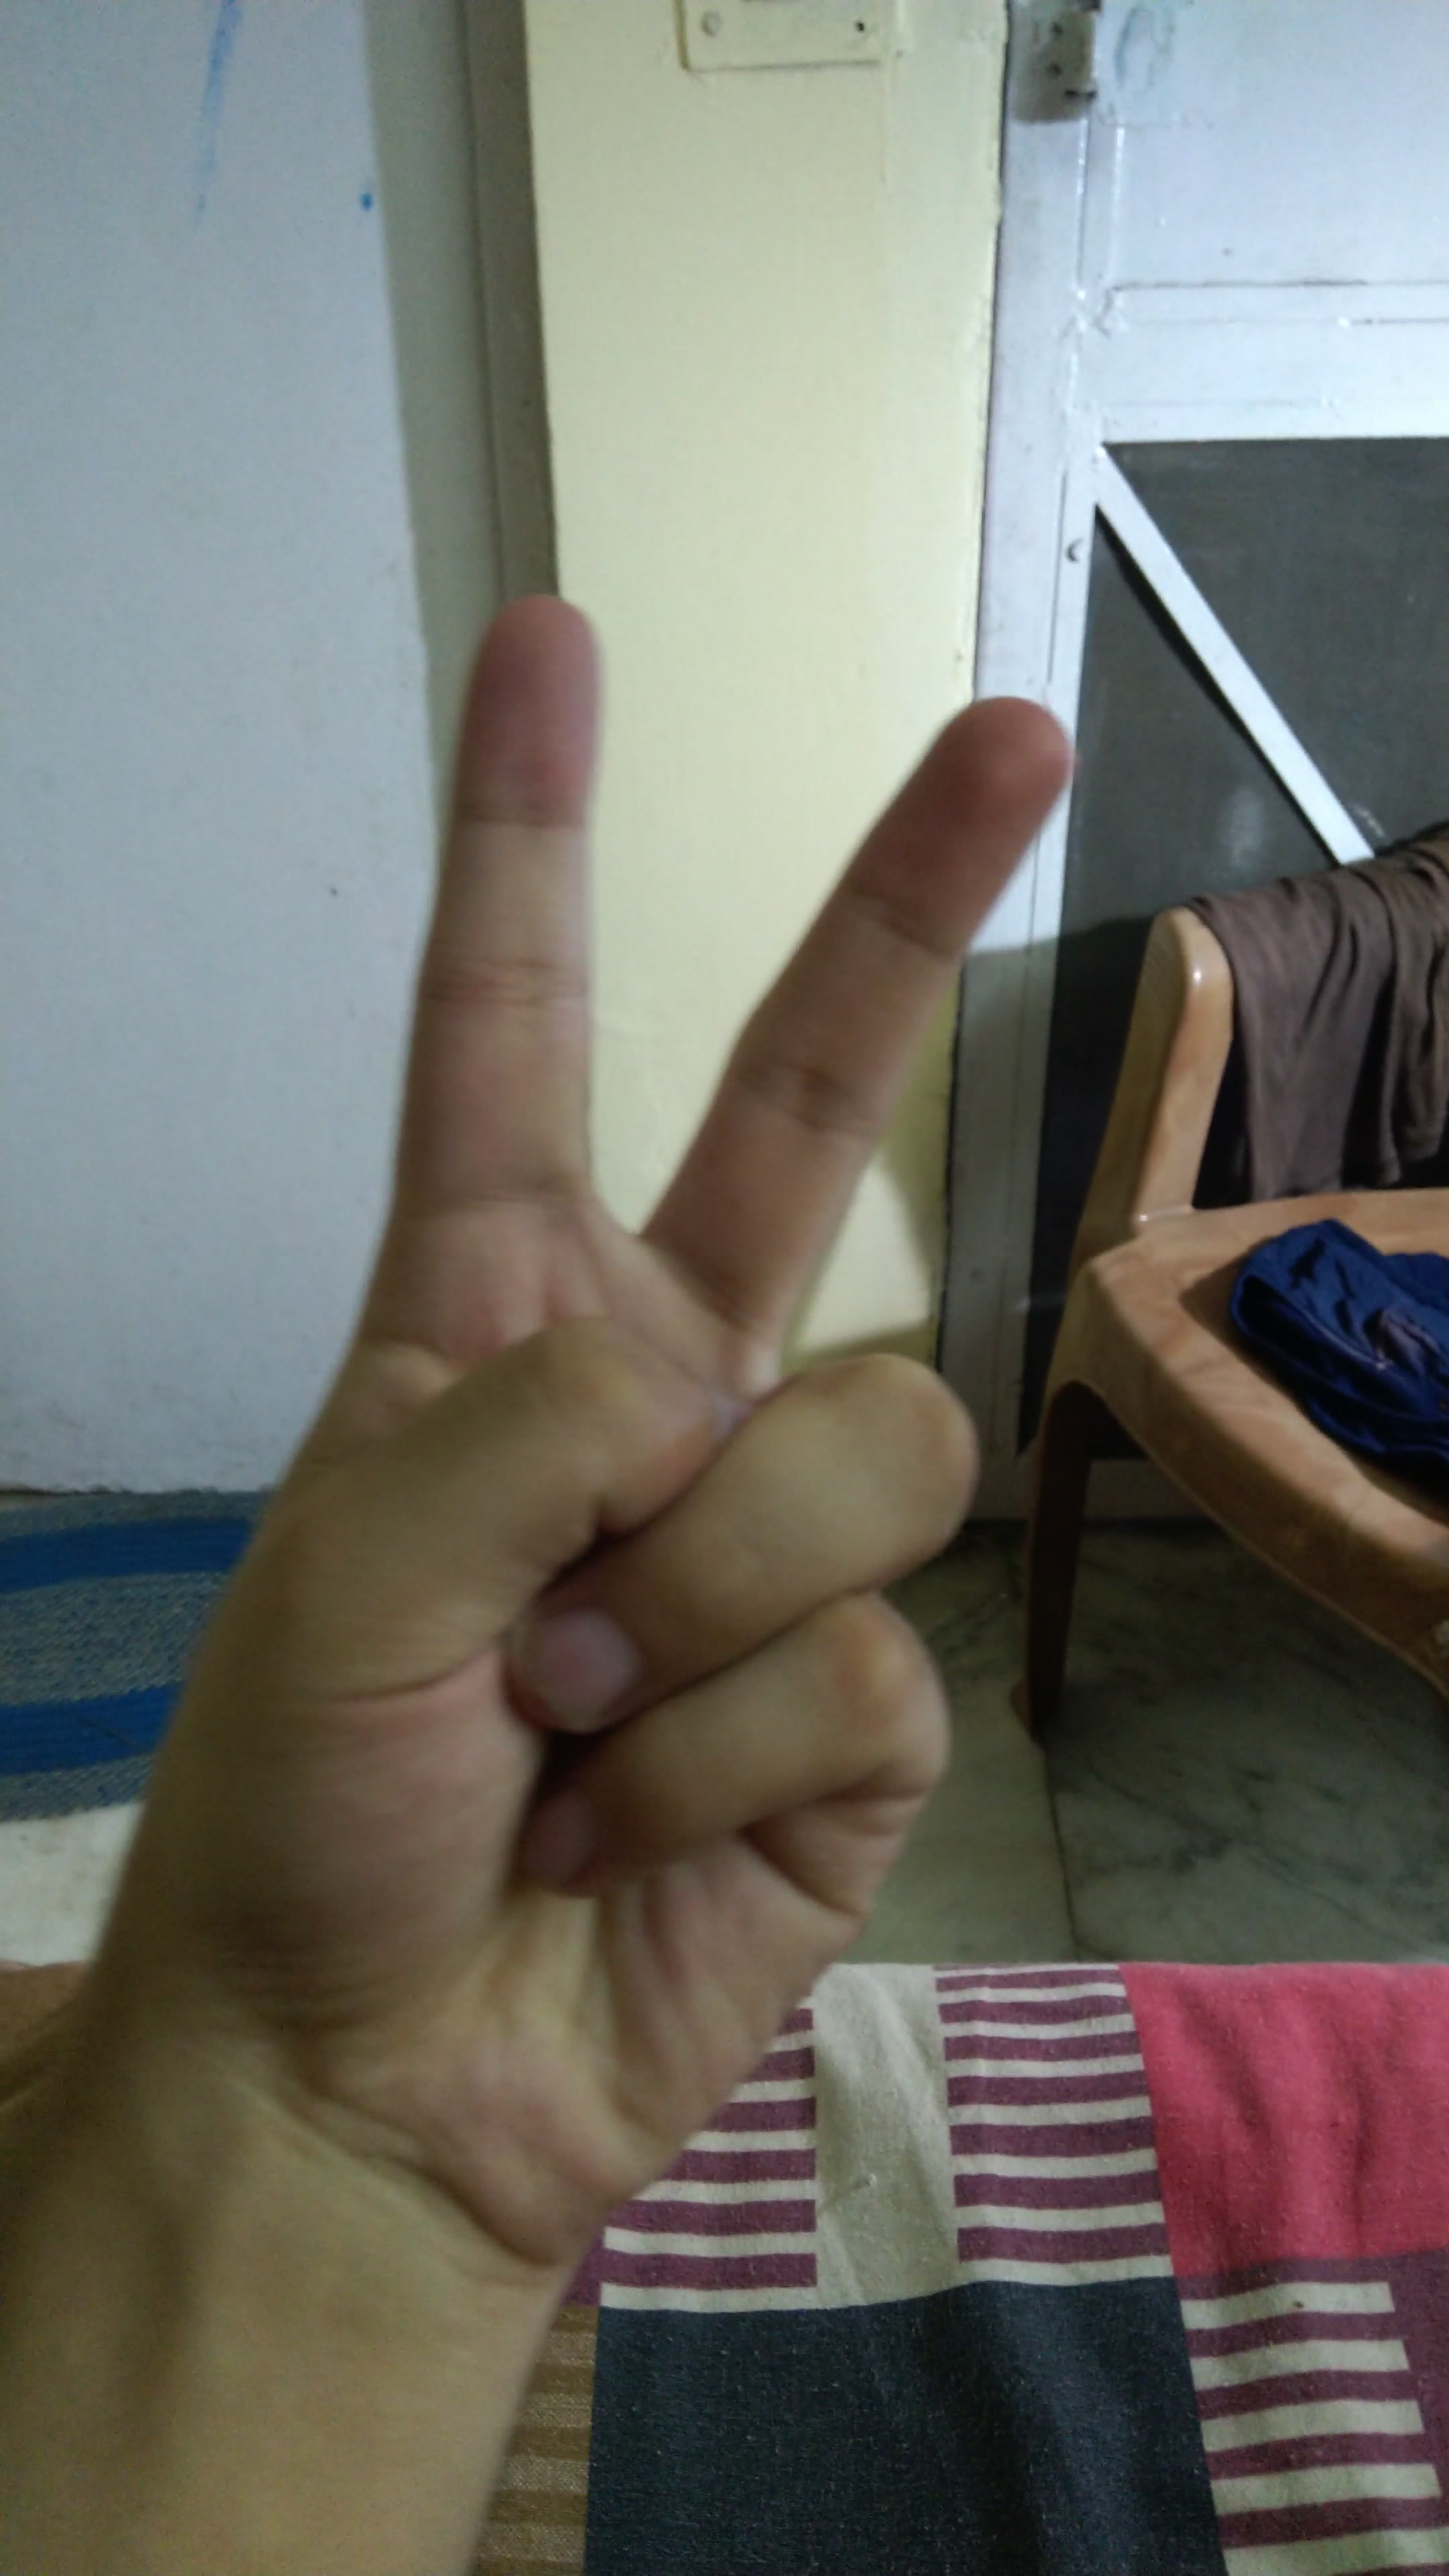hand: (99, 536, 1111, 2270)
